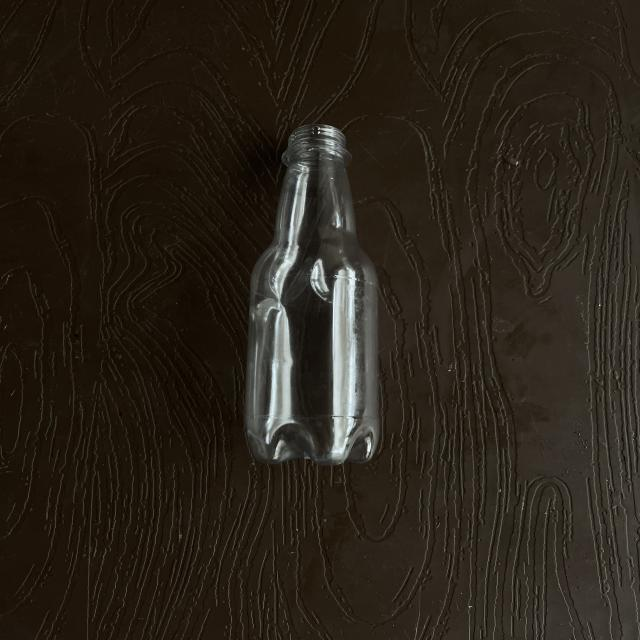PET_ClearBottle: (238, 123, 395, 466)
